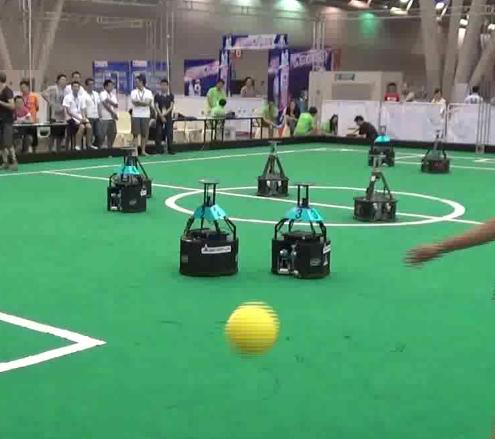robot: (266, 181, 335, 279), (176, 178, 242, 278), (351, 150, 400, 223), (105, 143, 151, 216), (253, 138, 295, 198)
